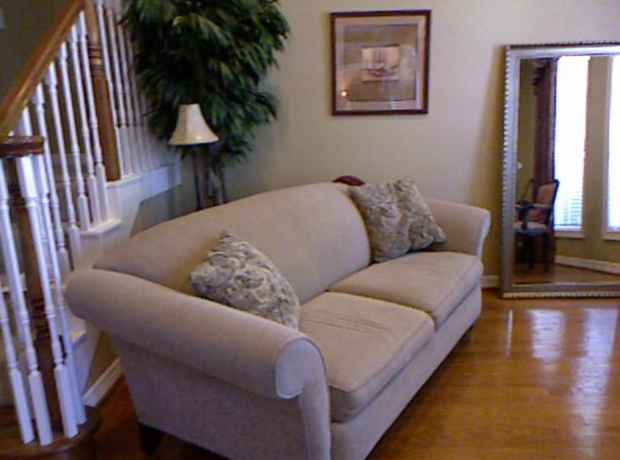couch: (143, 230, 472, 322)
